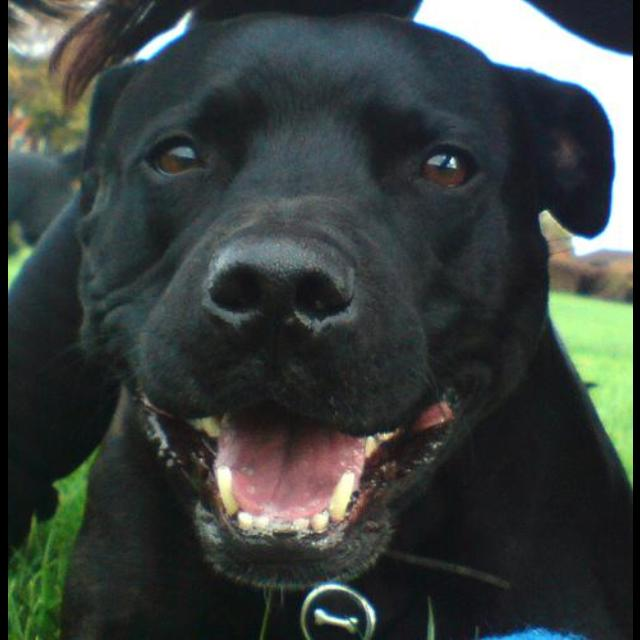staffford: (8, 1, 632, 639)
